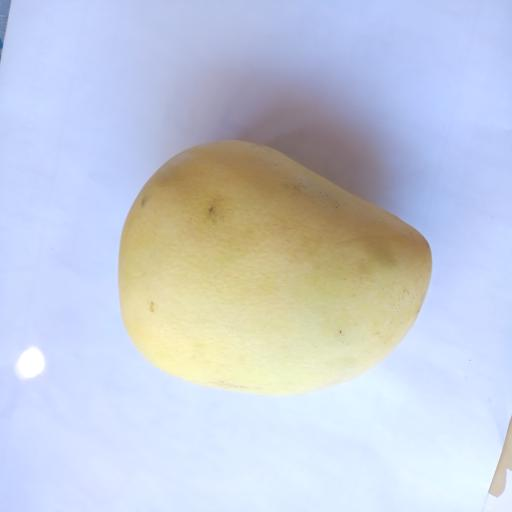mango-ripe: (88, 116, 446, 428)
